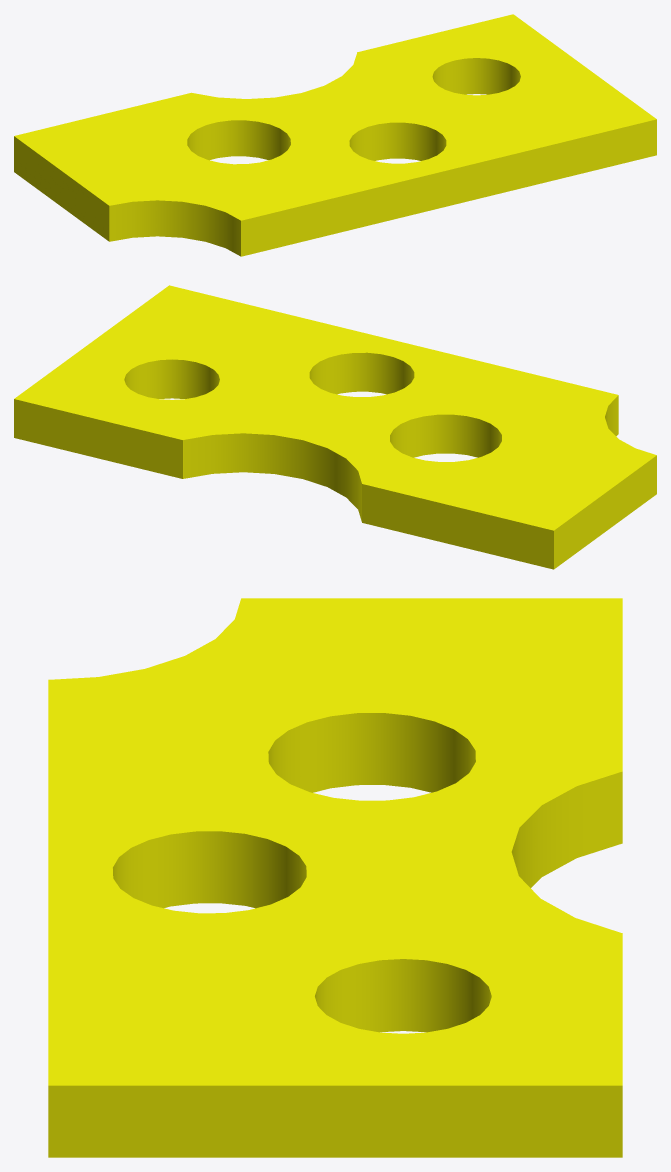
File: Emental+Cheese.fbx
The picture shows the model from 3 angles, top to bottom: view 1: azimuth 30°, elevation 25°; view 2: azimuth 150°, elevation 25°; view 3: azimuth 270°, elevation 25°; orthographic projection. The views are drawn at different scales.
Parts seen in each view (by area): view 1: Model; view 2: Model; view 3: Model.
Part boxes in pixels (left/top/right/bottom): Model: left=14, top=14, right=656, bottom=256; Model: left=14, top=285, right=656, bottom=569; Model: left=48, top=598, right=622, bottom=1157.
Bounding box in the file's own units: 5.08 × 0.35 × 2.53.
